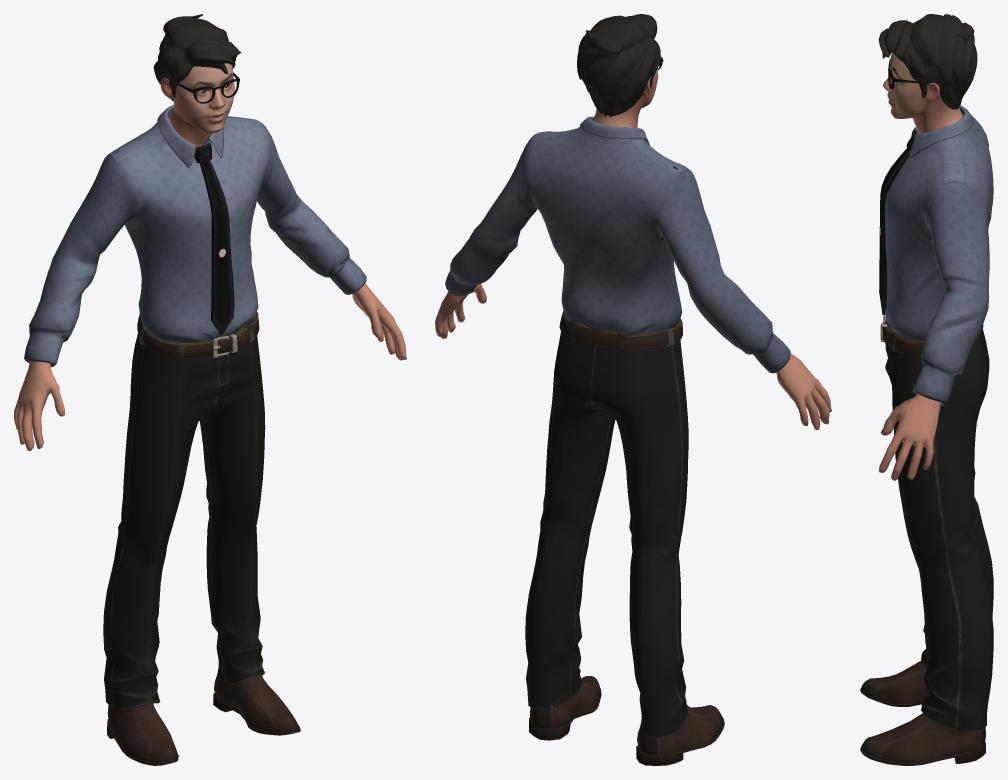
The model's file is campus-director.glb.
The picture shows the model from 3 angles, left to right: view 1: azimuth 30°, elevation 25°; view 2: azimuth 150°, elevation 25°; view 3: azimuth 270°, elevation 25°; orthographic projection.
Visible parts, largest first — view 1: node_id797_82; view 2: node_id797_82; view 3: node_id797_82.
Part boxes in pixels (x1,y1,x2,y2): node_id797_82: [14, 14, 406, 765]; node_id797_82: [435, 14, 831, 765]; node_id797_82: [860, 14, 993, 765].
Bounding box in the file's own units: 0.8126 × 1.44 × 0.2469.
Materials: 11 (11 with a texture image).
